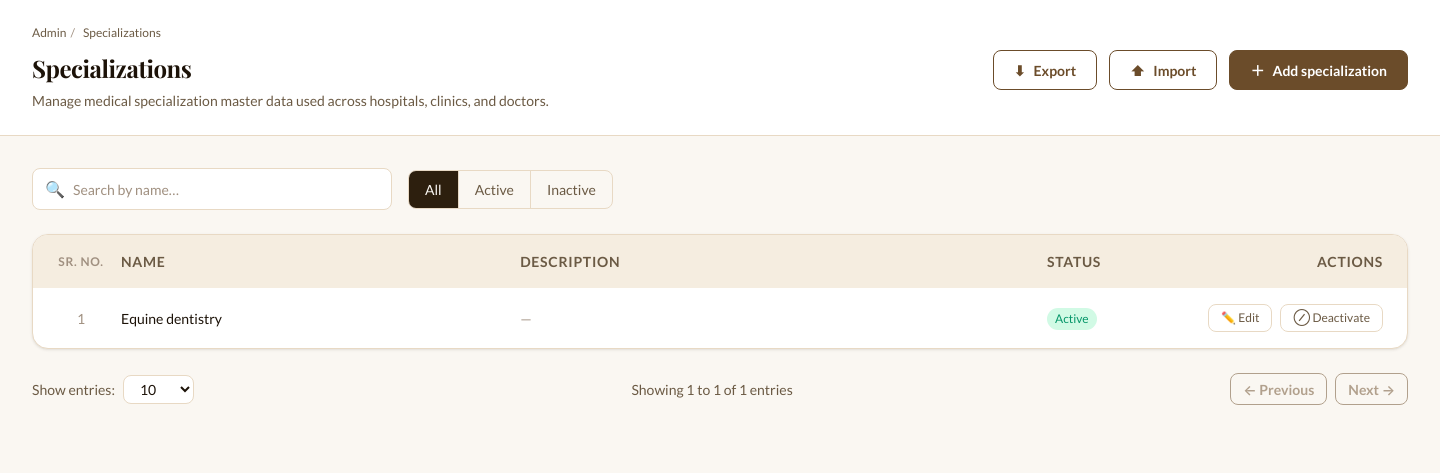
Scenario: SpecializationsPage empty table controls › hides controls for empty filtered results and restores them when records return
The width and height of the screenshot is (1440, 473).
Expected: the text "Equine dentistry" is shown, [121,310,222,326]
Expected: the element named "Pagination" is shown, [32,373,1408,405]
Click the button "Inactive" at (571,189), box [531,170,612,208]
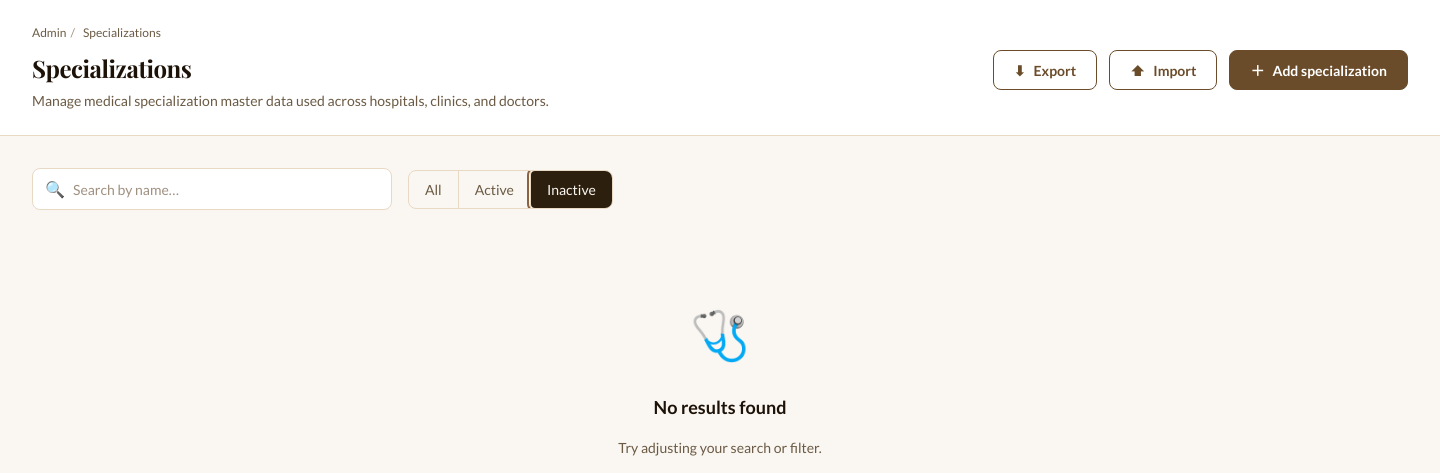
Expected: the heading "No results found" is shown, [654,394,786,421]
Expected: the field labelled "Pagination" is gone
Expected: the button "Previous" is gone
Click the button "All" at (434,189), box [409,170,459,208]
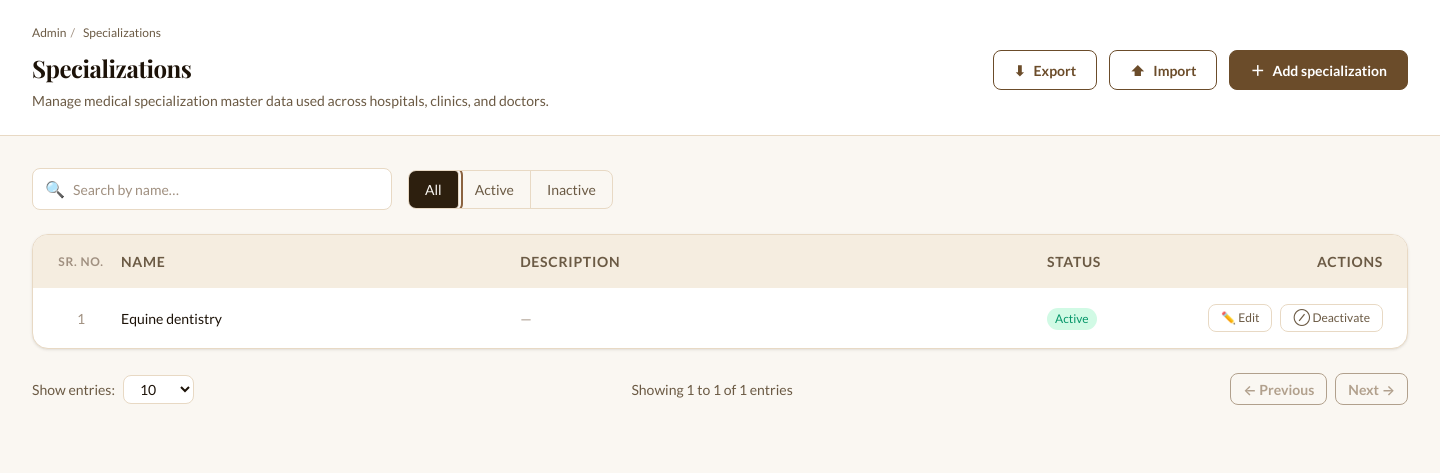
Expected: the text "Equine dentistry" is shown, [121,310,222,326]
Expected: the element named "Pagination" is shown, [32,373,1408,405]
